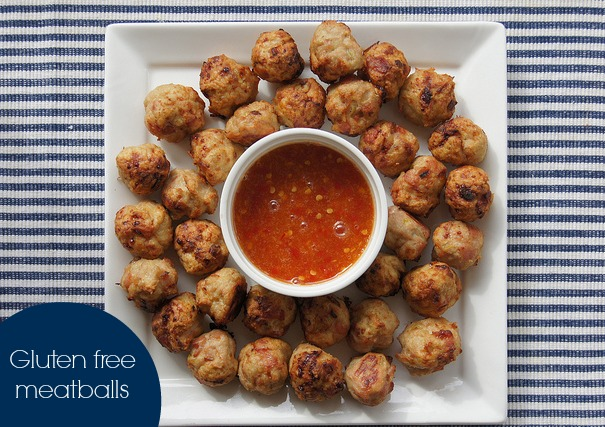meatballs: (155, 298, 400, 400), (249, 39, 430, 119), (136, 89, 209, 283), (399, 142, 461, 354)
